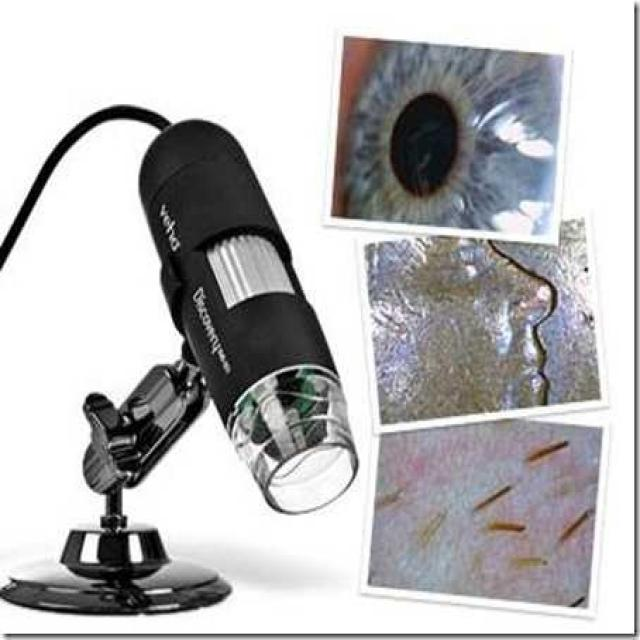microphone: (147, 133, 368, 505)
